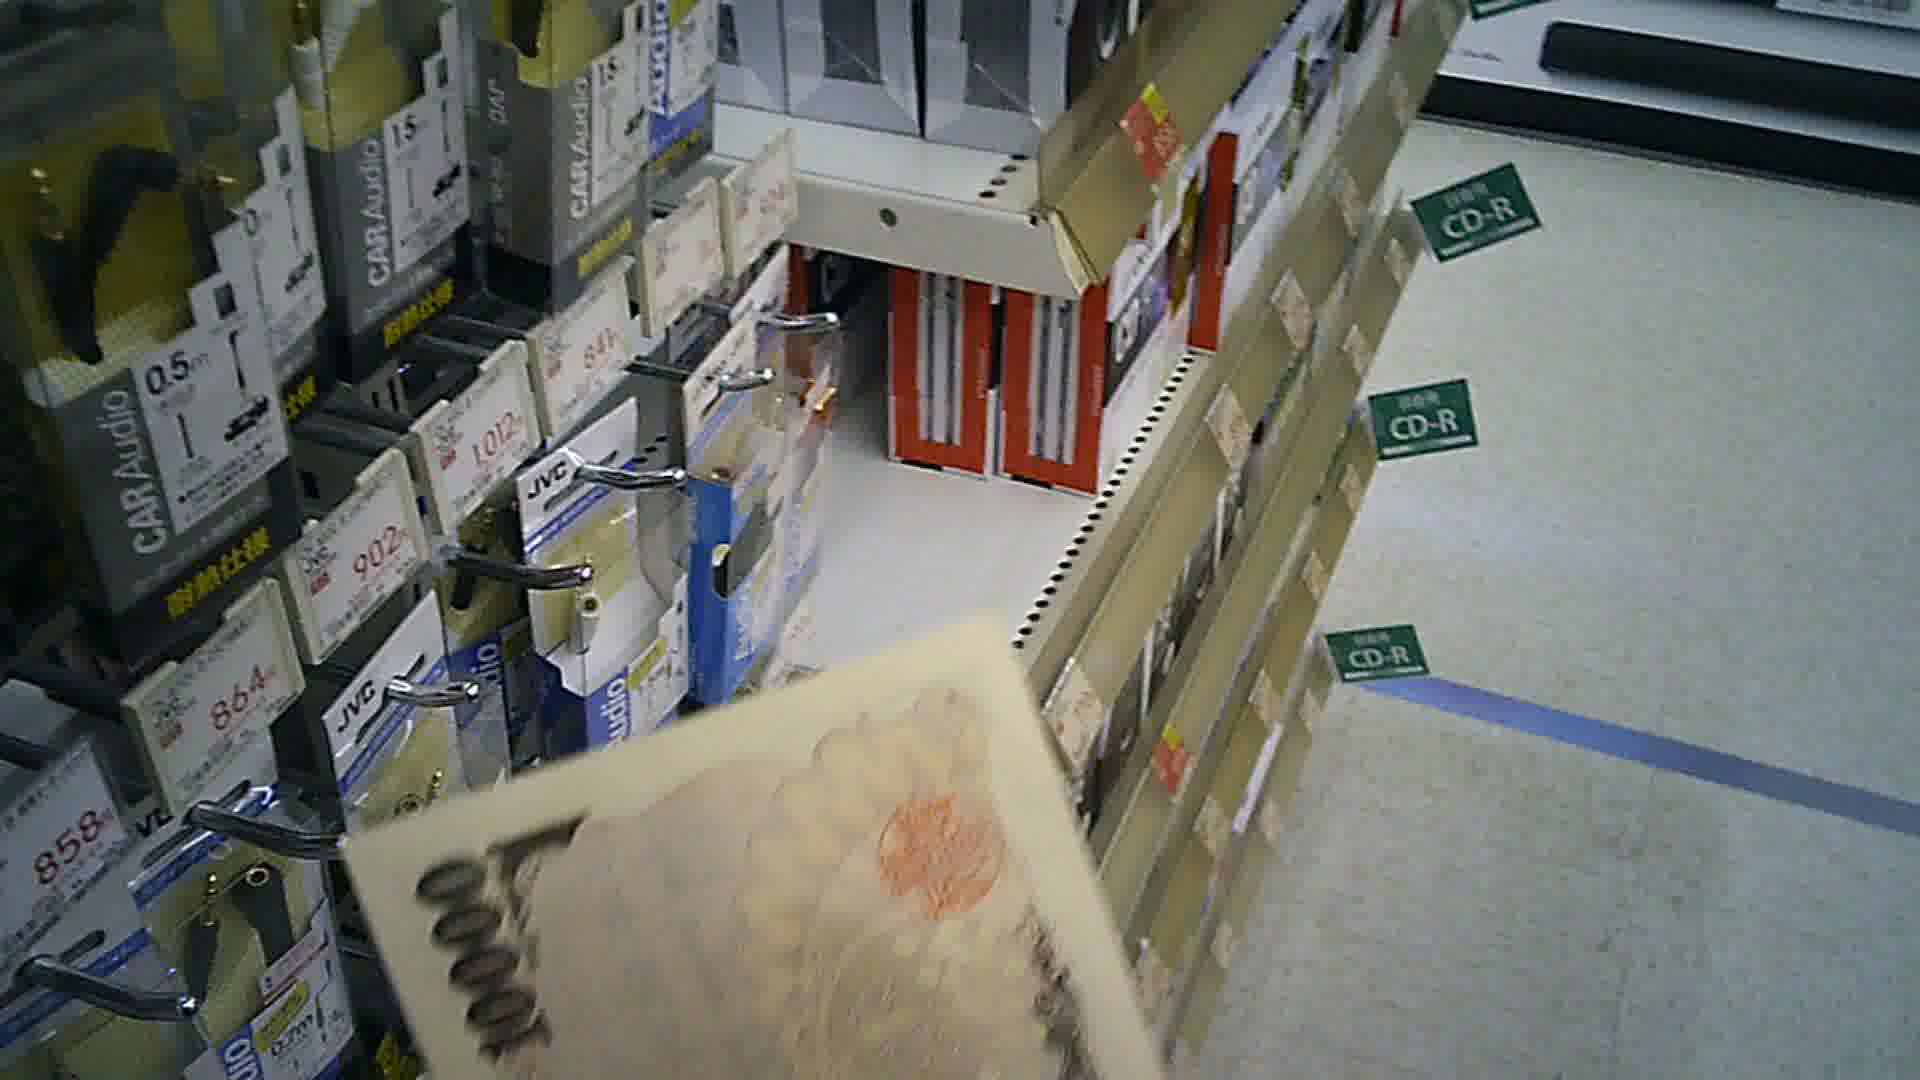10,000 Yen: (338, 661, 1188, 1079)
